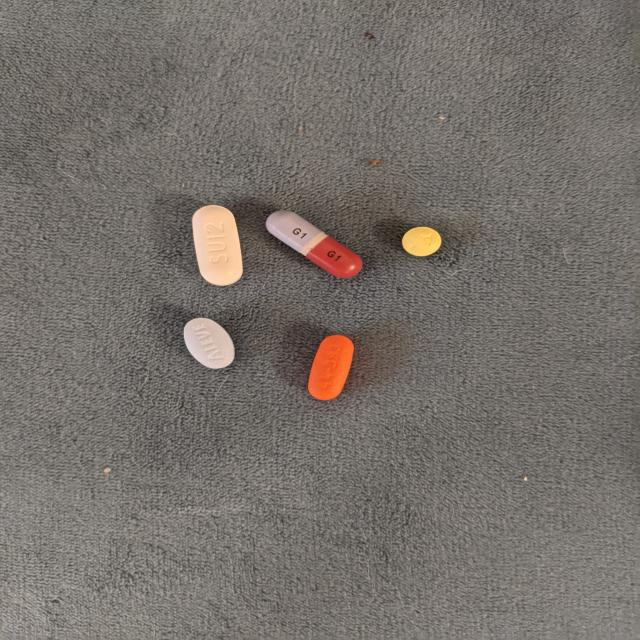non-organic waste: (265, 210, 364, 280), (191, 204, 245, 287), (306, 334, 355, 401), (182, 317, 236, 369), (401, 225, 443, 257)
